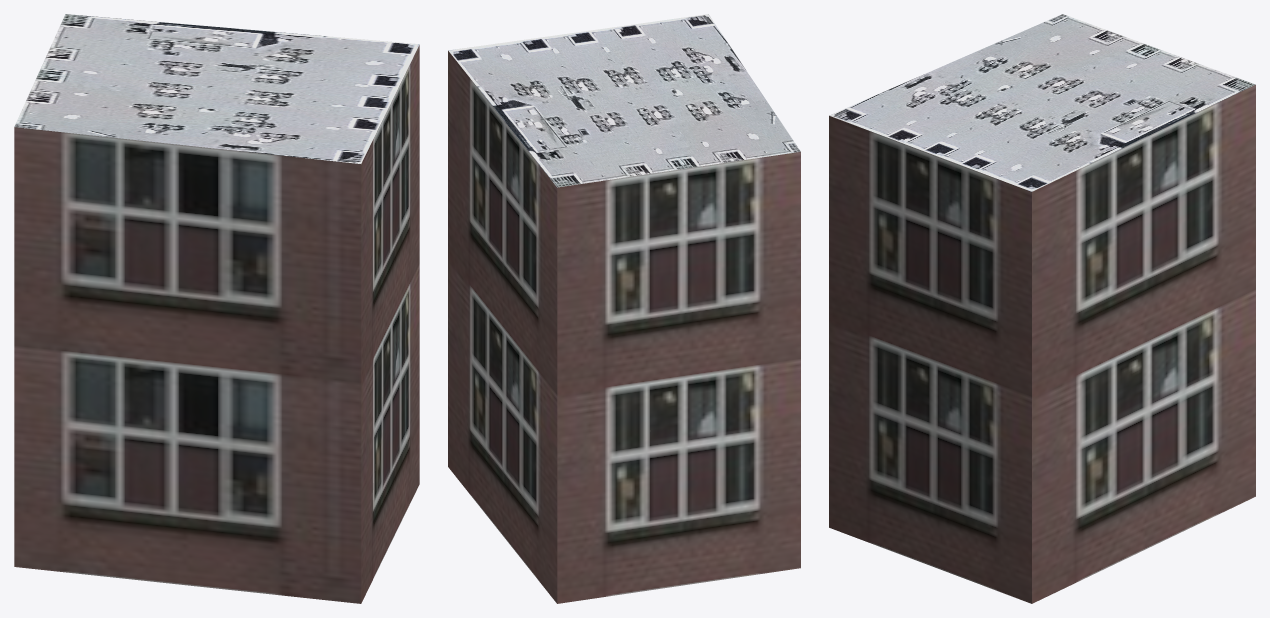
The model's file is ResTex__149.fbx.
3 views of the same model, side by side, from view 1: azimuth 30°, elevation 25°; view 2: azimuth 150°, elevation 25°; view 3: azimuth 270°, elevation 25° (orthographic). The views are drawn at different scales.
Visible parts, largest first — view 1: CityEngineMaterial_12_m, CityEngineMaterial_4_m; view 2: CityEngineMaterial_12_m, CityEngineMaterial_4_m; view 3: CityEngineMaterial_12_m, CityEngineMaterial_4_m.
Boxes of the visible parts, <box> form: CityEngineMaterial_12_m: <box>14,45,419,603</box>; CityEngineMaterial_4_m: <box>14,14,419,163</box>; CityEngineMaterial_12_m: <box>448,51,800,603</box>; CityEngineMaterial_4_m: <box>448,14,800,187</box>; CityEngineMaterial_12_m: <box>829,84,1255,603</box>; CityEngineMaterial_4_m: <box>829,14,1255,191</box>.
Size of the model in its own units: 5.56 by 6 by 5.63.
Materials: 2 (2 with a texture image).
